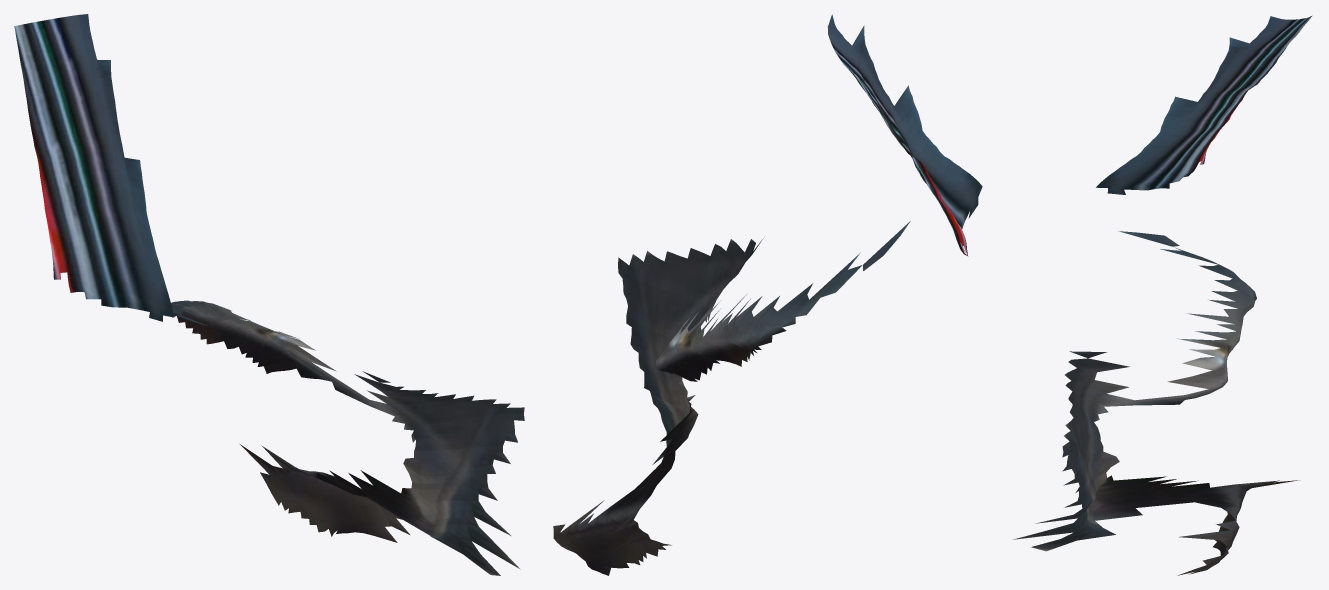
Rendered from observed-surface.glb.
The picture shows the model from 3 angles, left to right: view 1: azimuth 30°, elevation 25°; view 2: azimuth 150°, elevation 25°; view 3: azimuth 270°, elevation 25°; orthographic projection. The views are drawn at different scales.
Visible parts, largest first — view 1: geometry_0; view 2: geometry_0; view 3: geometry_0.
Boxes of the visible parts, x1=… form: geometry_0: x1=14, y1=14, x2=524, y2=575; geometry_0: x1=553, y1=14, x2=982, y2=575; geometry_0: x1=1012, y1=15, x2=1312, y2=575.
Bounding box in the file's own units: 0.4245 × 0.5877 × 0.3549.
Materials: 1 (1 with a texture image).
